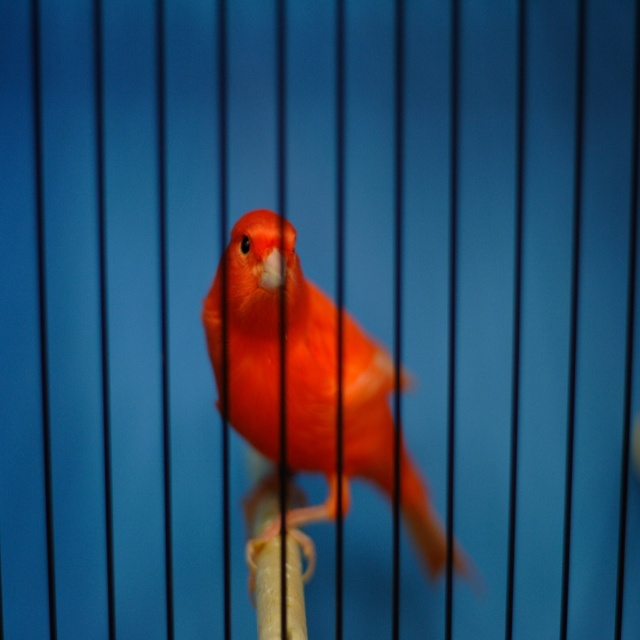Canary: (201, 208, 472, 604)
